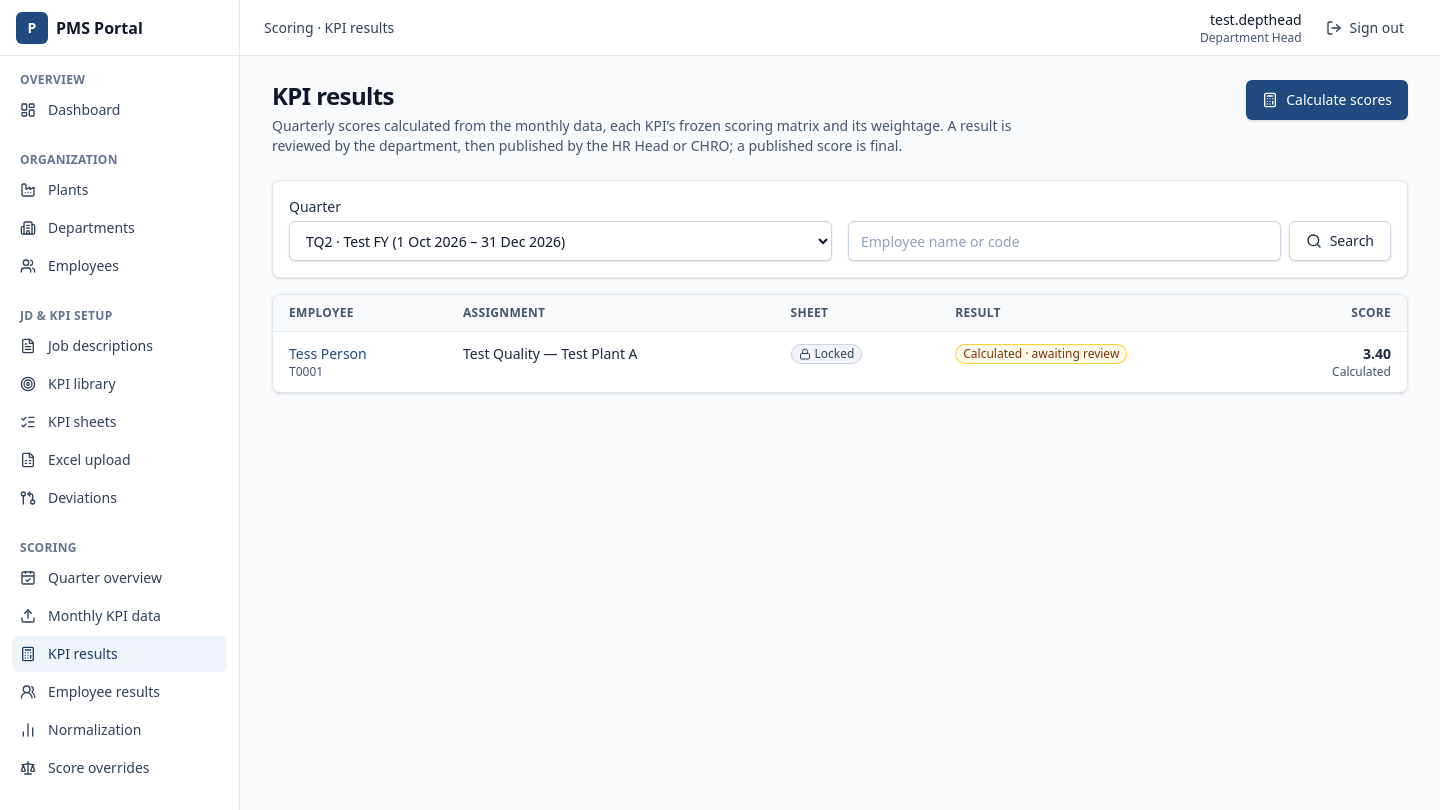
Test: quarterly results › calculates the quarter and lists each sheet’s score
This screenshot has width=1440, height=810.
Expected: the text "3.40" is shown, [1363, 344, 1391, 363]
Click the button "Calculate scores" at (1327, 100), box [1246, 80, 1408, 120]
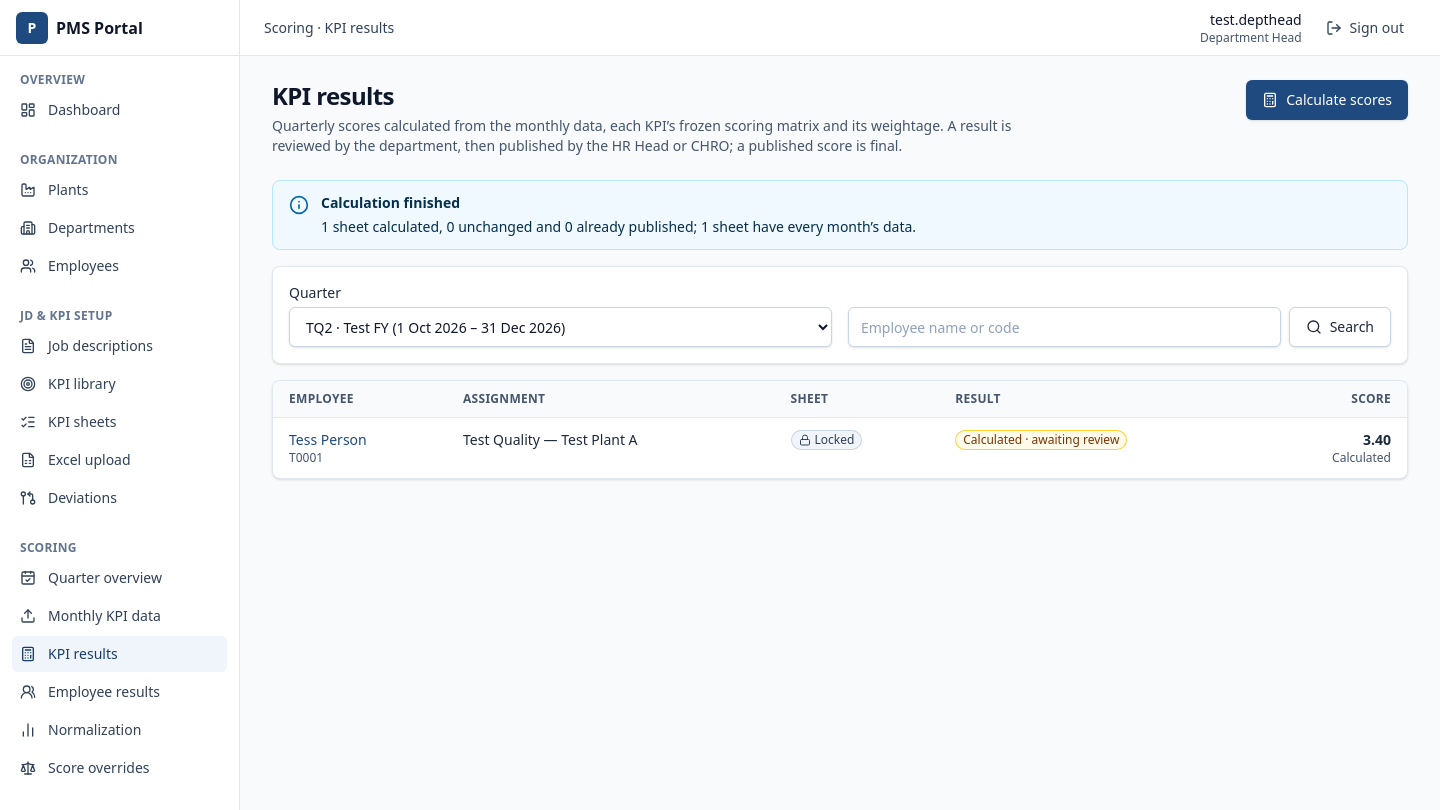
Result: the text "Calculation finished" is shown at [321, 193, 460, 212]
